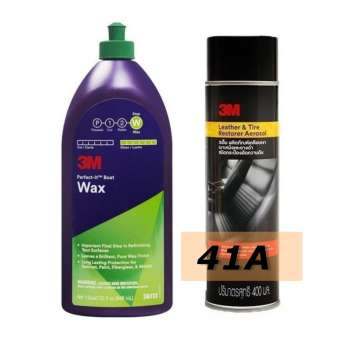Aerosol_cans: (201, 34, 282, 314)
